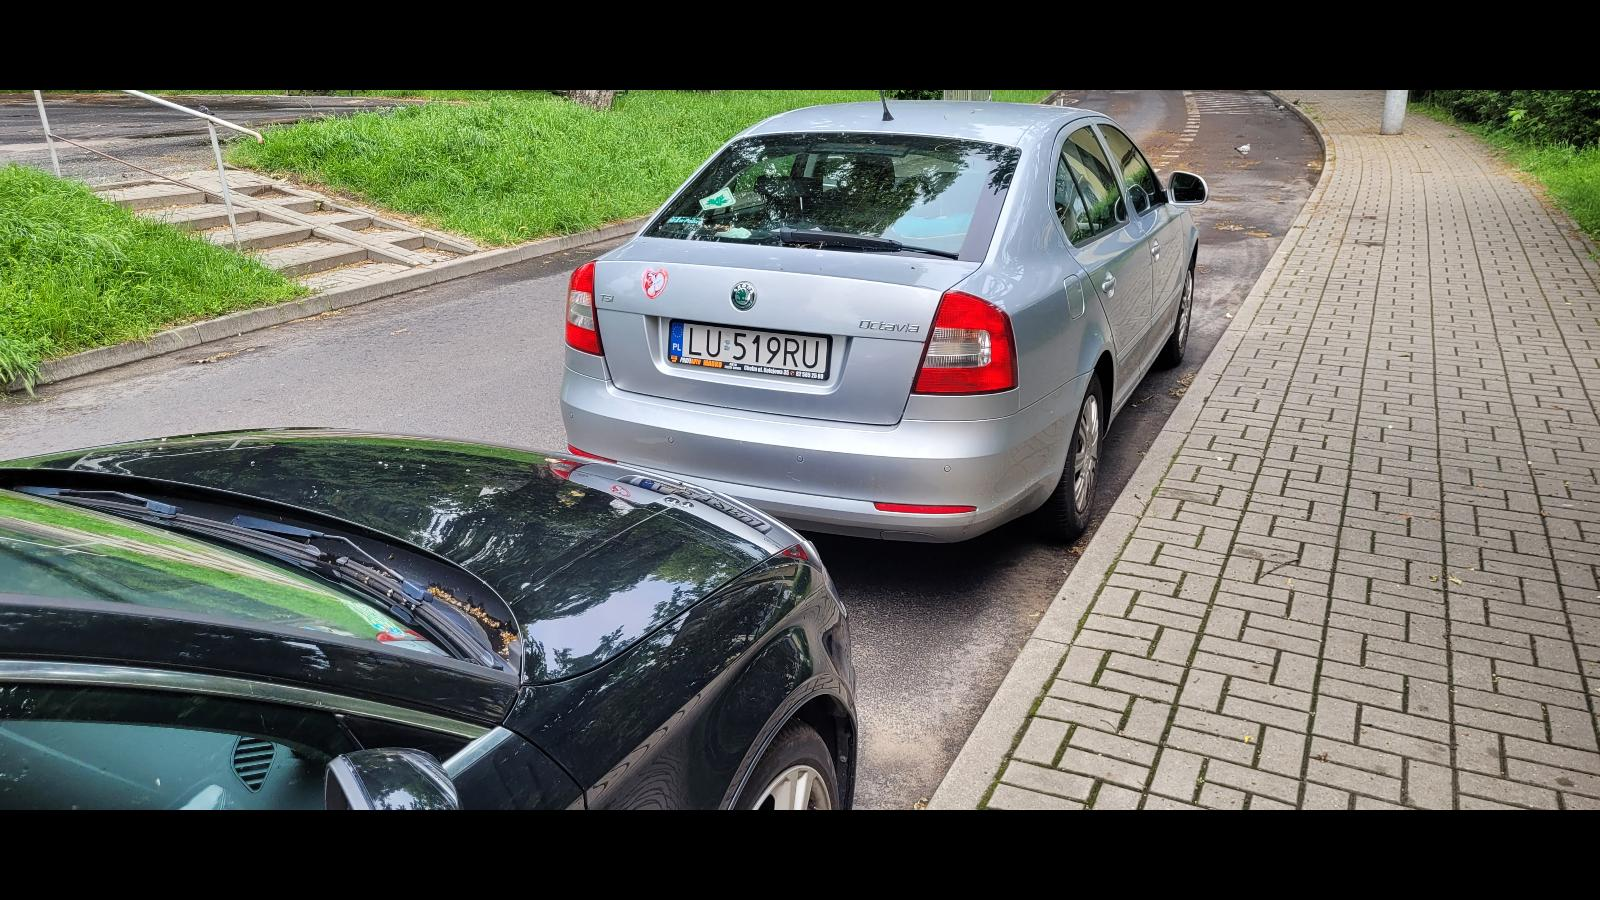plates: (666, 317, 834, 383)
